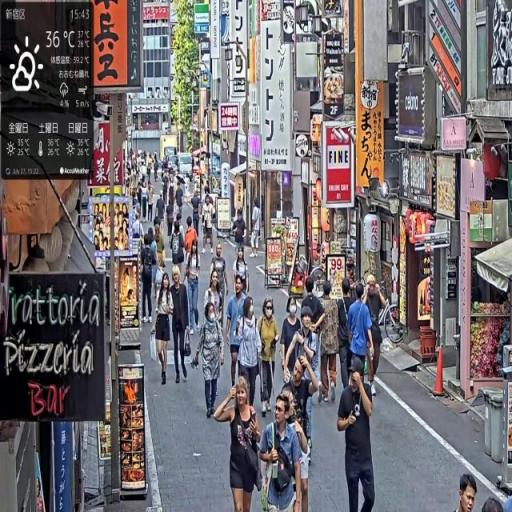person: (214, 378, 263, 512), (337, 356, 376, 512), (258, 388, 307, 512), (194, 297, 226, 421), (237, 298, 263, 415), (349, 284, 376, 396), (363, 275, 386, 402), (258, 297, 281, 420), (170, 265, 193, 386), (226, 274, 248, 395), (318, 282, 339, 407), (153, 269, 175, 387), (280, 298, 304, 383), (139, 231, 158, 326), (211, 241, 230, 331), (185, 243, 203, 335), (205, 273, 224, 327), (456, 472, 479, 512), (234, 248, 251, 299)
